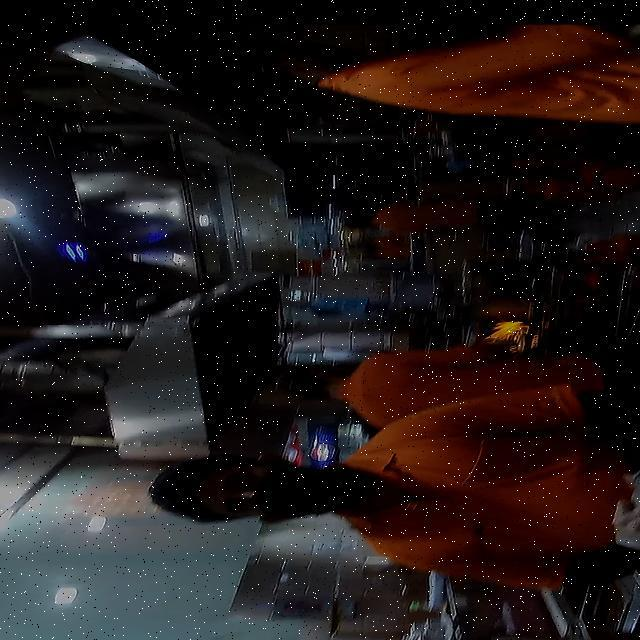face_mask: (197, 453, 339, 524), (235, 43, 350, 78)
